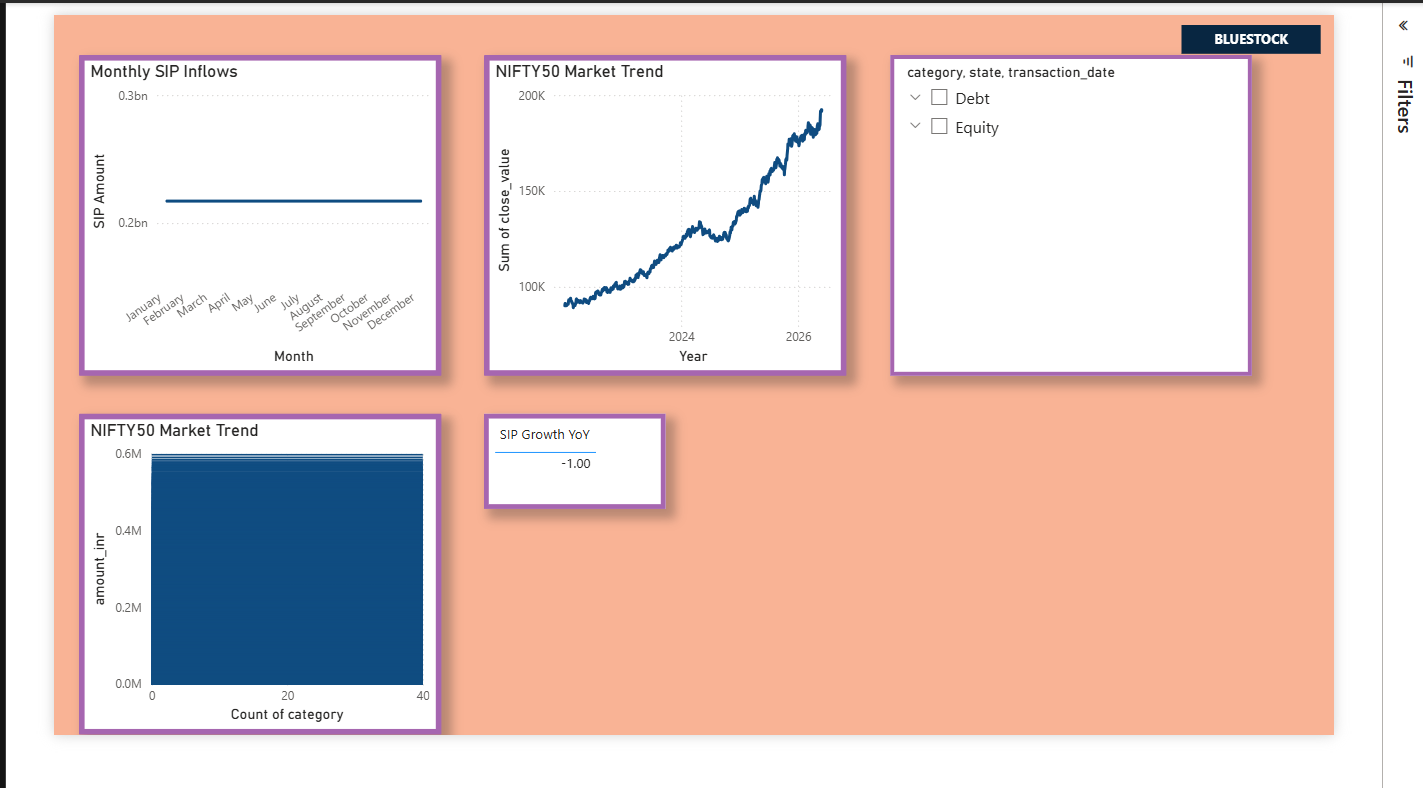

The dashboard page shown, as its layout file describes it:
{"tool":"powerbi","page":{"name":"SIP & Market Trends","canvas":[1280,720],"ordinal":3},"visuals":[{"type":"textbox","box":[1127.9,10.5,139.5,29.1],"z":1000},{"type":"lineChart","title":"Monthly SIP Inflows","fields":{"Y":["investor_transactions_clean.SIP Amount"],"Category":["10_benchmark_indices.date.Variation.Date Hierarchy.Month"]},"box":[24.4,39.5,362.8,320.9],"z":1001},{"type":"lineChart","title":"NIFTY50 Market Trend","fields":{"Category":["10_benchmark_indices.date.Variation.Date Hierarchy.Year","10_benchmark_indices.date.Variation.Date Hierarchy.Quarter","10_benchmark_indices.date.Variation.Date Hierarchy.Month","10_benchmark_indices.date.Variation.Date Hierarchy.Day"],"Y":["Sum(10_benchmark_indices.close_value)"]},"box":[430.2,39.5,362.8,320.9],"z":1002},{"type":"clusteredBarChart","title":"NIFTY50 Market Trend","fields":{"Category":["investor_transactions_clean.amount_inr"],"Y":["CountNonNull(fund_master_clean.category)"]},"box":[24.4,398.8,362.8,320.9],"z":1003},{"type":"tableEx","fields":{"Values":["investor_transactions_clean.SIP Growth YoY"]},"box":[430.2,398.8,181.4,95.3],"z":1005},{"type":"slicer","fields":{"Values":["fund_master_clean.category","investor_transactions_clean.state","investor_transactions_clean.transaction_date"]},"box":[836,39.5,361.6,320.9],"z":1006}]}

Visuals, with their boxes on the page's 1280x720 design canvas (x1, y1, x2, y2). These are canvas units, not pixel positions in the 1423x788 screenshot, which may show the page scaled, cropped or inside an application window:
textbox: (left=1128, top=10, right=1267, bottom=40)
"Monthly SIP Inflows" lineChart: (left=24, top=40, right=387, bottom=360)
"NIFTY50 Market Trend" lineChart: (left=430, top=40, right=793, bottom=360)
"NIFTY50 Market Trend" clusteredBarChart: (left=24, top=399, right=387, bottom=720)
tableEx - investor_transactions_clean.SIP Growth YoY: (left=430, top=399, right=612, bottom=494)
slicer - fund_master_clean.category x investor_transactions_clean.state: (left=836, top=40, right=1198, bottom=360)
